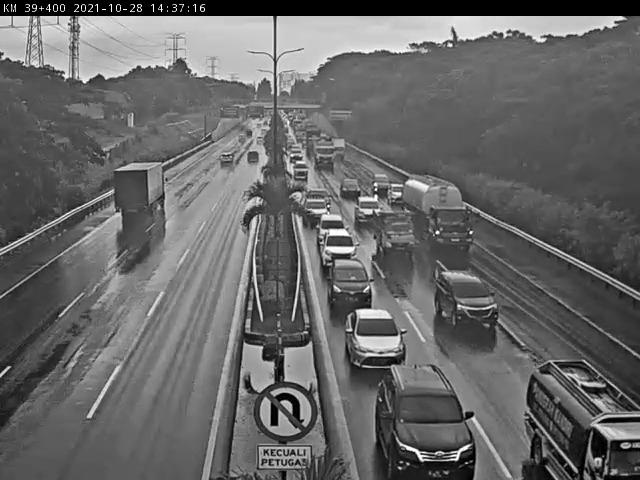big truck: (405, 173, 474, 253)
car: (372, 363, 479, 480), (343, 307, 411, 372), (432, 267, 500, 331), (371, 207, 419, 262), (327, 257, 375, 309), (318, 228, 362, 268), (351, 195, 386, 226), (315, 212, 348, 241), (304, 191, 332, 223), (340, 178, 364, 200), (389, 182, 407, 205), (373, 174, 390, 194), (293, 161, 309, 180)
small truck: (523, 358, 640, 480), (112, 163, 169, 216)
